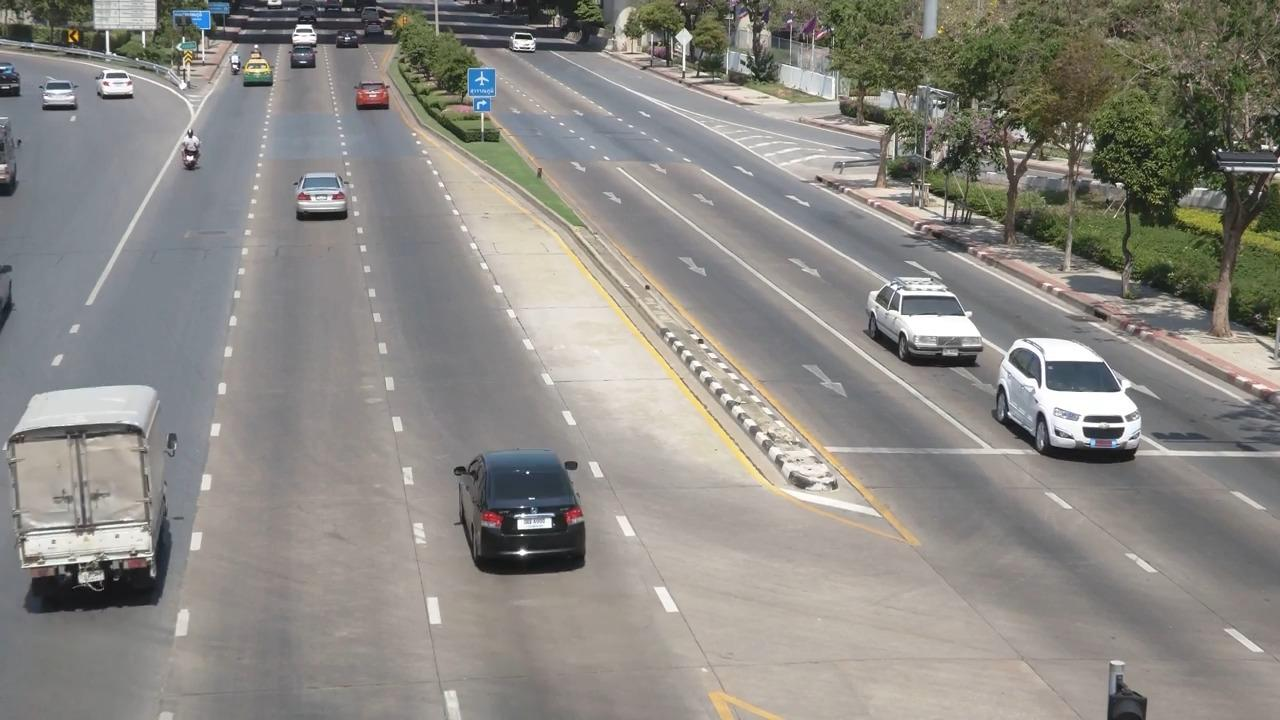CAR: (0, 363, 197, 623), (446, 432, 603, 588), (985, 335, 1149, 464), (856, 257, 993, 375), (287, 163, 357, 226), (346, 75, 398, 121), (349, 73, 396, 119), (37, 73, 84, 115), (95, 63, 140, 104), (242, 50, 278, 87), (500, 22, 541, 54), (0, 56, 29, 99), (285, 40, 322, 71), (282, 43, 322, 70), (329, 22, 361, 53), (287, 17, 322, 45)
MOTOR: (179, 117, 207, 170), (225, 43, 246, 82)
